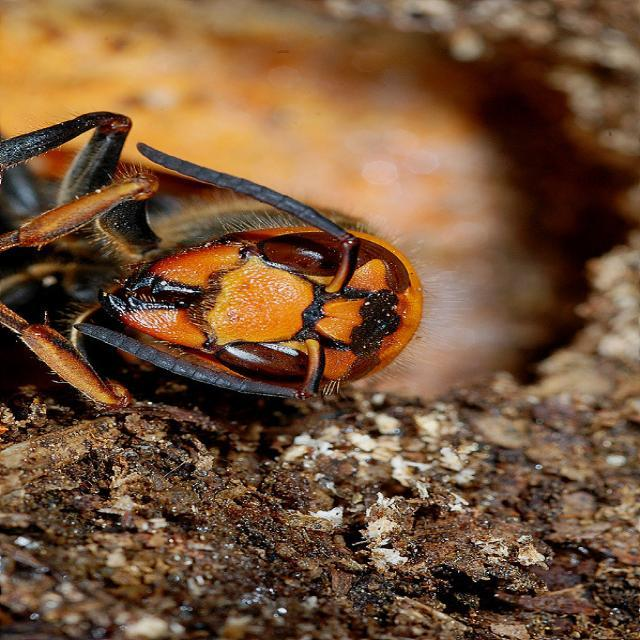Wasp: (0, 92, 435, 424)
